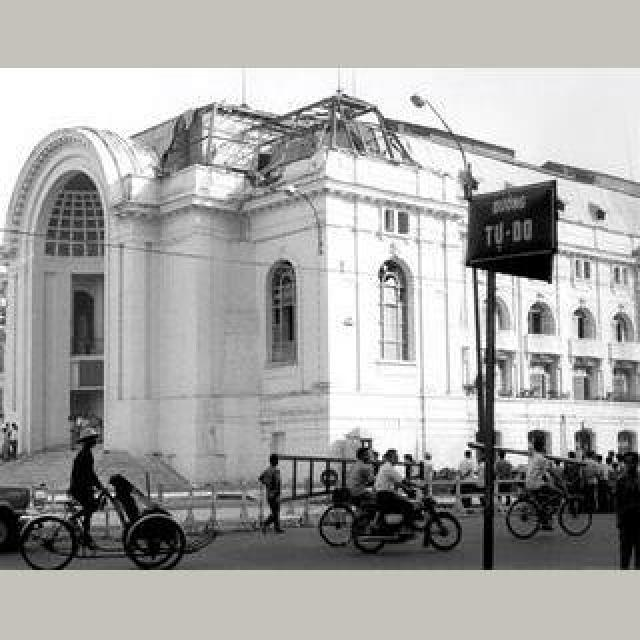MC-Bike: (68, 424, 114, 554), (522, 430, 564, 528), (374, 450, 418, 538), (614, 450, 640, 570), (572, 438, 606, 514), (346, 446, 376, 518), (258, 454, 284, 534), (458, 448, 480, 486), (494, 448, 514, 482), (420, 448, 436, 486), (402, 452, 418, 482)
Person: (22, 474, 180, 570), (354, 488, 464, 556), (506, 478, 592, 538)
